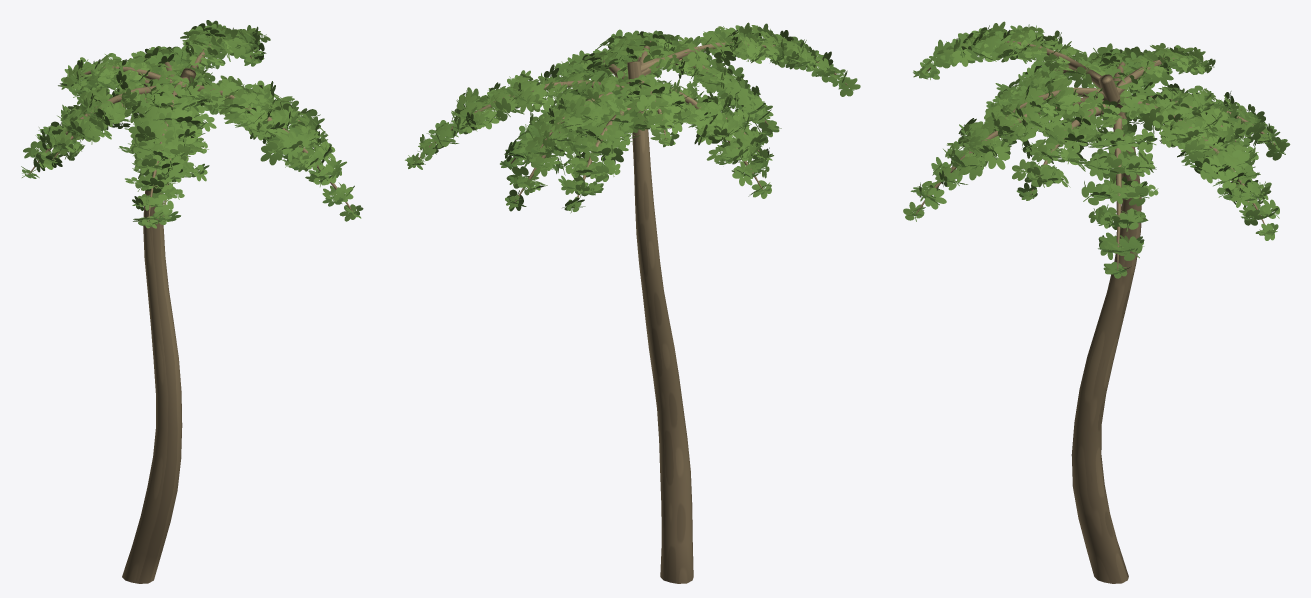
File: tree.gltf
3 renders of one model, left to right at view 1: azimuth 30°, elevation 25°; view 2: azimuth 150°, elevation 25°; view 3: azimuth 270°, elevation 25°, orthographic. The views are drawn at different scales.
Visible parts, largest first — view 1: Tree_LOD0; view 2: Tree_LOD0; view 3: Tree_LOD0.
Part boxes in pixels (box(x1,y1,x2,y2)): Tree_LOD0: box(21, 20, 363, 583); Tree_LOD0: box(405, 22, 860, 583); Tree_LOD0: box(903, 21, 1290, 583).
Bounding box in the file's own units: 10.61 × 16.63 × 11.11.
Materials: 2 (2 with a texture image).
